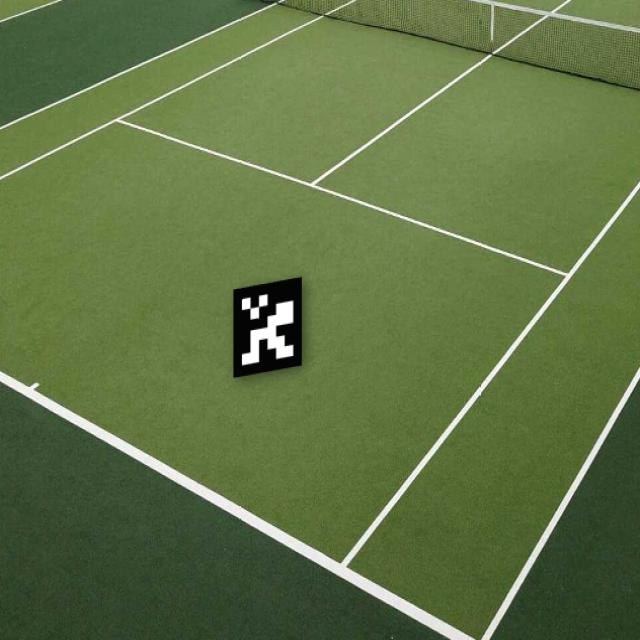marker: (222, 266, 316, 384)
